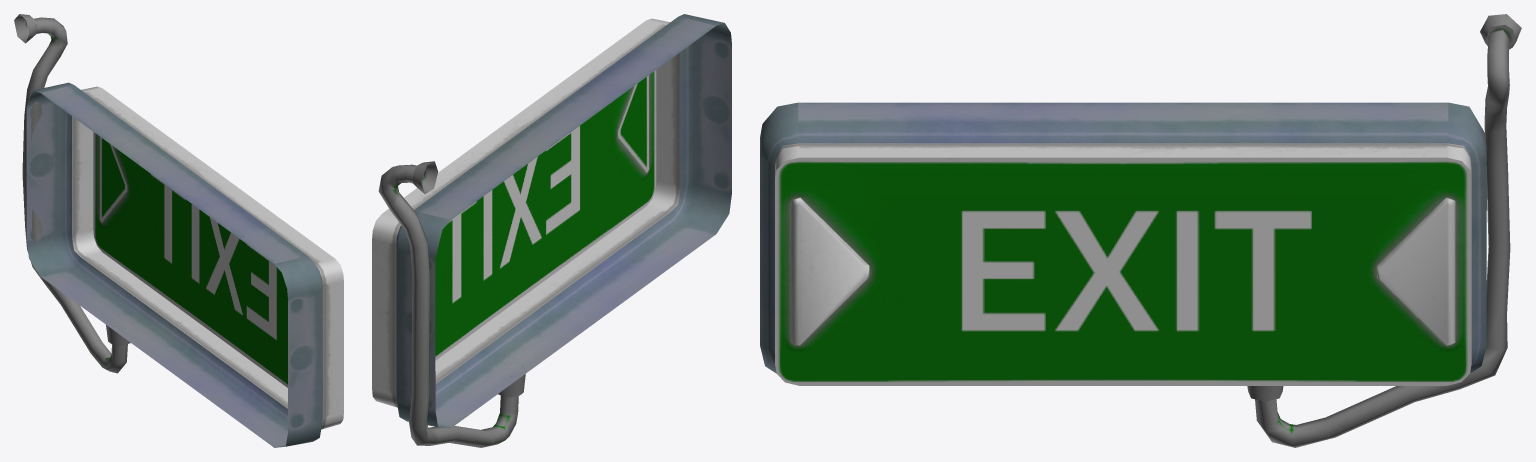
File: SM_Exit_01.fbx
3 views of the same model, side by side, from view 1: azimuth 30°, elevation 25°; view 2: azimuth 150°, elevation 25°; view 3: azimuth 270°, elevation 25° (orthographic). The views are drawn at different scales.
Parts seen in each view (by area): view 1: SM_Exit_01_LOD1; view 2: SM_Exit_01_LOD1; view 3: SM_Exit_01_LOD1.
Boxes of the visible parts, <box> form: SM_Exit_01_LOD1: <box>14,14,343,447</box>; SM_Exit_01_LOD1: <box>372,14,731,447</box>; SM_Exit_01_LOD1: <box>760,14,1521,447</box>.
Bounding box in the file's own units: 7.11 × 31.22 × 50.78.
